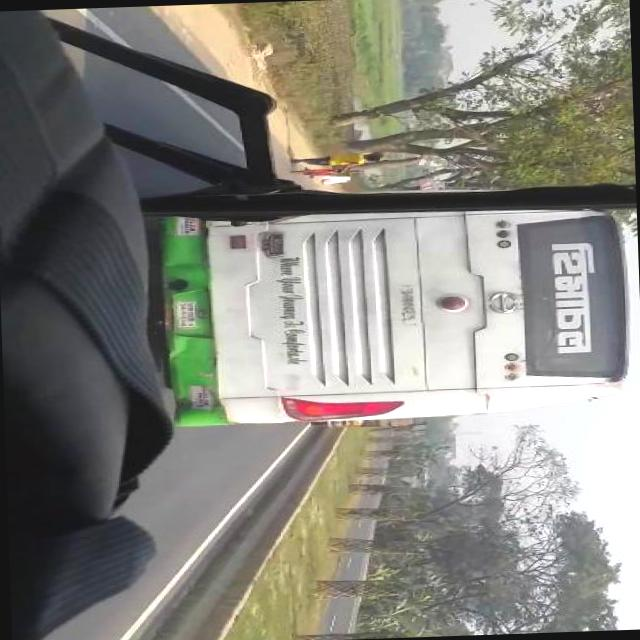bus: (169, 205, 626, 426)
